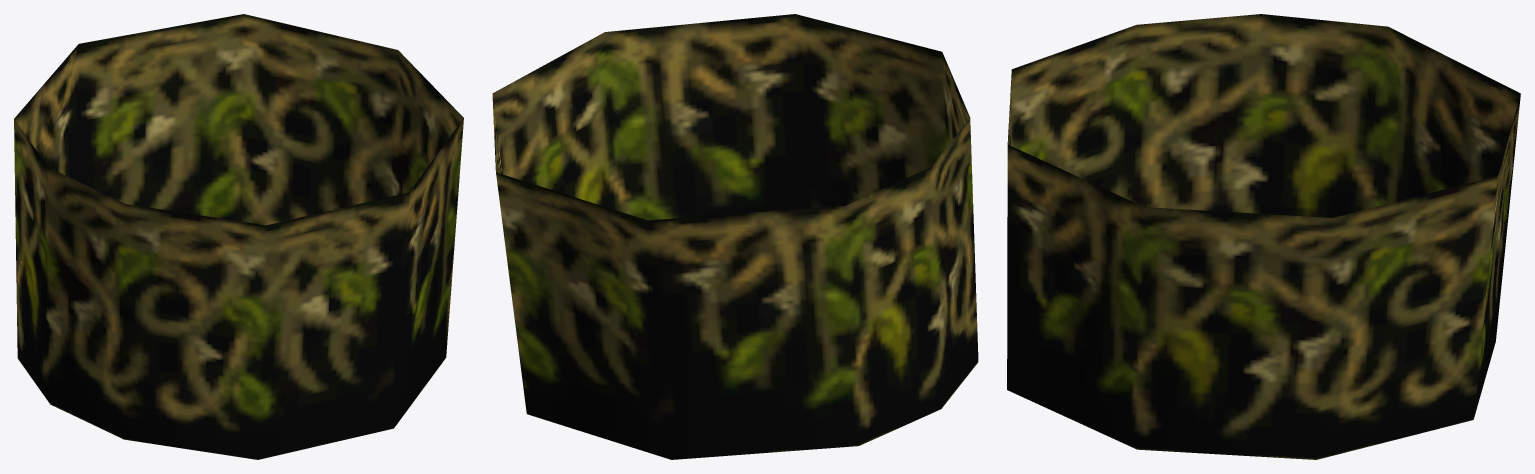
Rendered from OVERHILL_A_01_LINE138.fbx.
3 views of the same model, side by side, from view 1: azimuth 30°, elevation 25°; view 2: azimuth 150°, elevation 25°; view 3: azimuth 270°, elevation 25° (orthographic). The views are drawn at different scales.
Parts seen in each view (by area): view 1: OVERHILL_A_01_LINE138; view 2: OVERHILL_A_01_LINE138; view 3: OVERHILL_A_01_LINE138.
Boxes of the visible parts, x1=… form: OVERHILL_A_01_LINE138: x1=14, y1=14, x2=463, y2=459; OVERHILL_A_01_LINE138: x1=492, y1=14, x2=978, y2=459; OVERHILL_A_01_LINE138: x1=1007, y1=14, x2=1520, y2=459.
Bounding box in the file's own units: 12182 × 7000 × 12844.
1 material, 1 textured.
